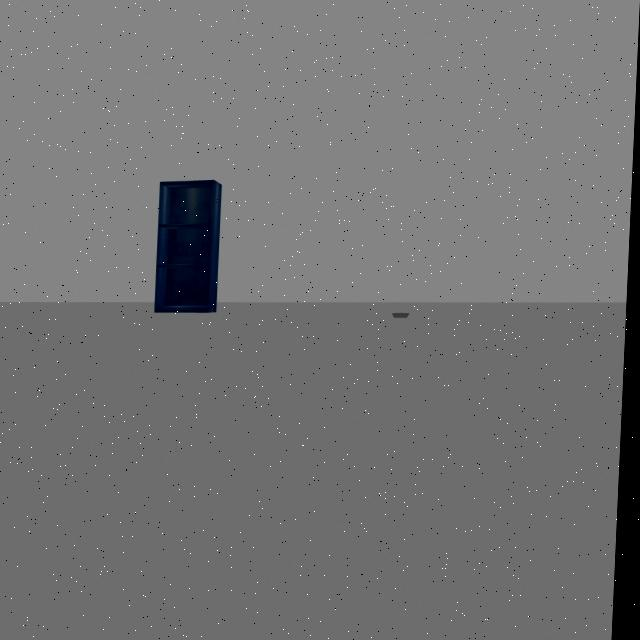bowl: (392, 304, 417, 326)
shelf: (147, 160, 235, 329)
